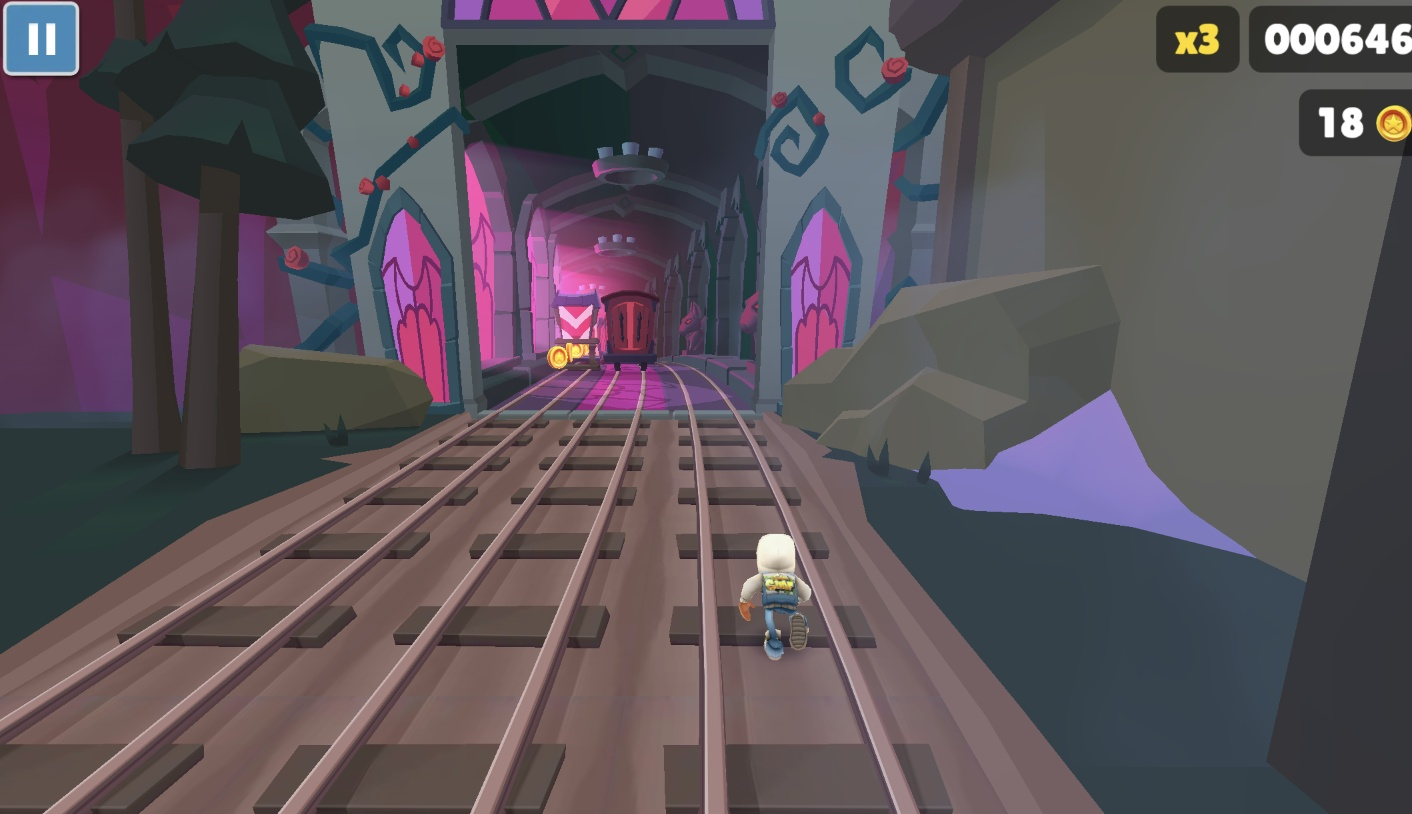overhead_barrier: (548, 292, 600, 370)
train: (600, 291, 660, 372)
